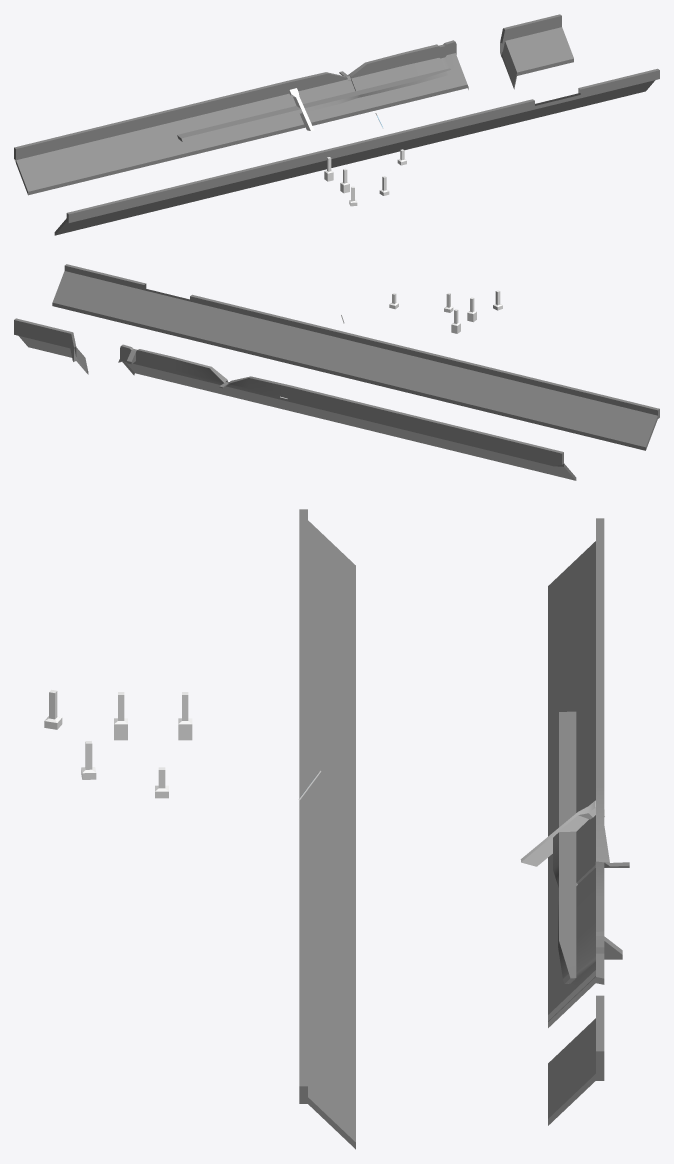
File: Decoração 1.fbx
3 renders of one model, top to bottom at view 1: azimuth 30°, elevation 25°; view 2: azimuth 150°, elevation 25°; view 3: azimuth 270°, elevation 25°, orthographic. The views are drawn at different scales.
Parts seen in each view (by area): view 1: Decoração; view 2: Decoração; view 3: Decoração.
Boxes of the visible parts, x1,y1,x2,y2 form: Decoração: (14,14,659,235); Decoração: (14,264,659,480); Decoração: (44,509,629,1149).
Bounding box in the file's own units: 32408 × 3478 × 13896.
